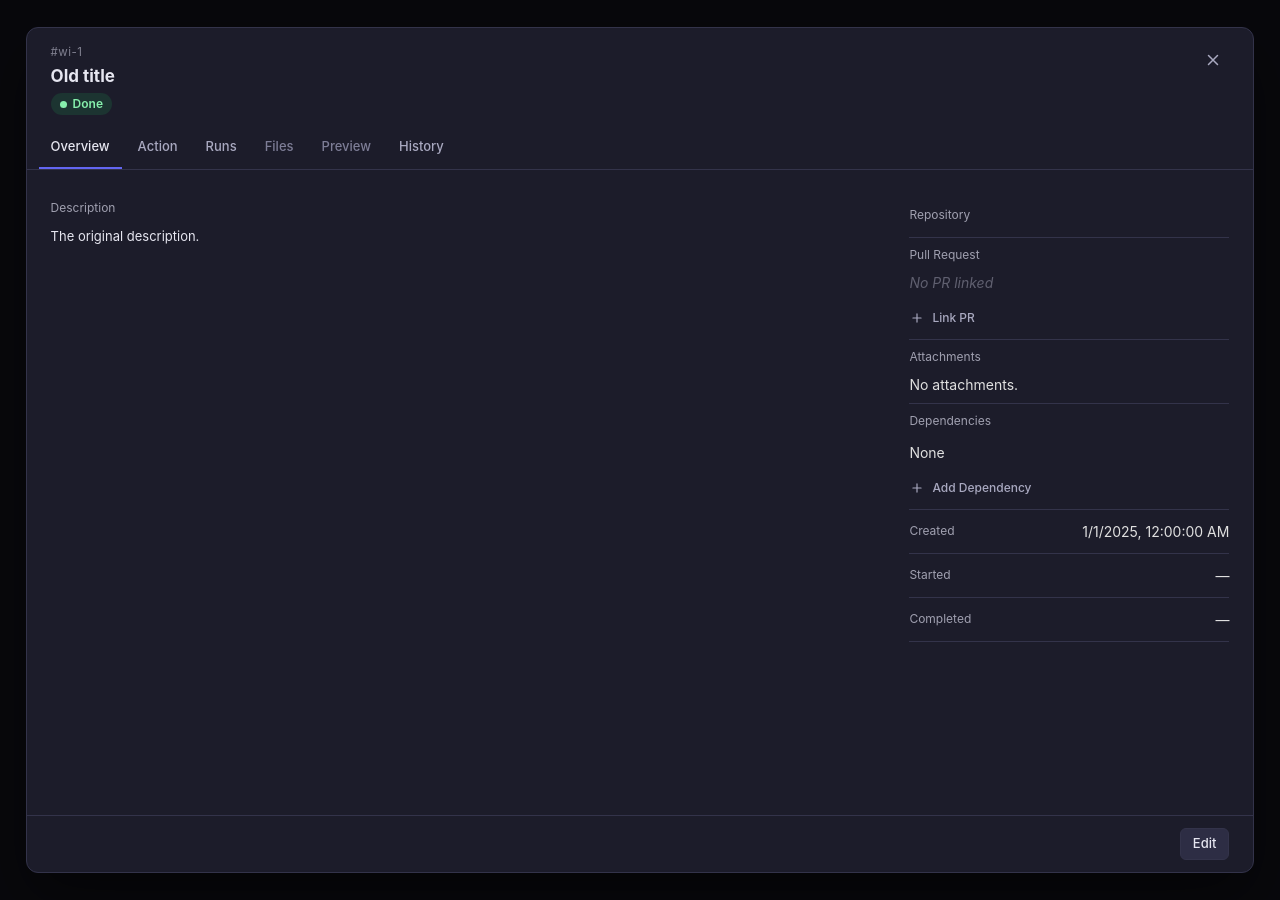
human input suggestions in the Action tab › approving re-reads the list, and the card then shows it decided with nothing left to press
Click the tab "Action" at (158, 148), box [126,127,190,169]
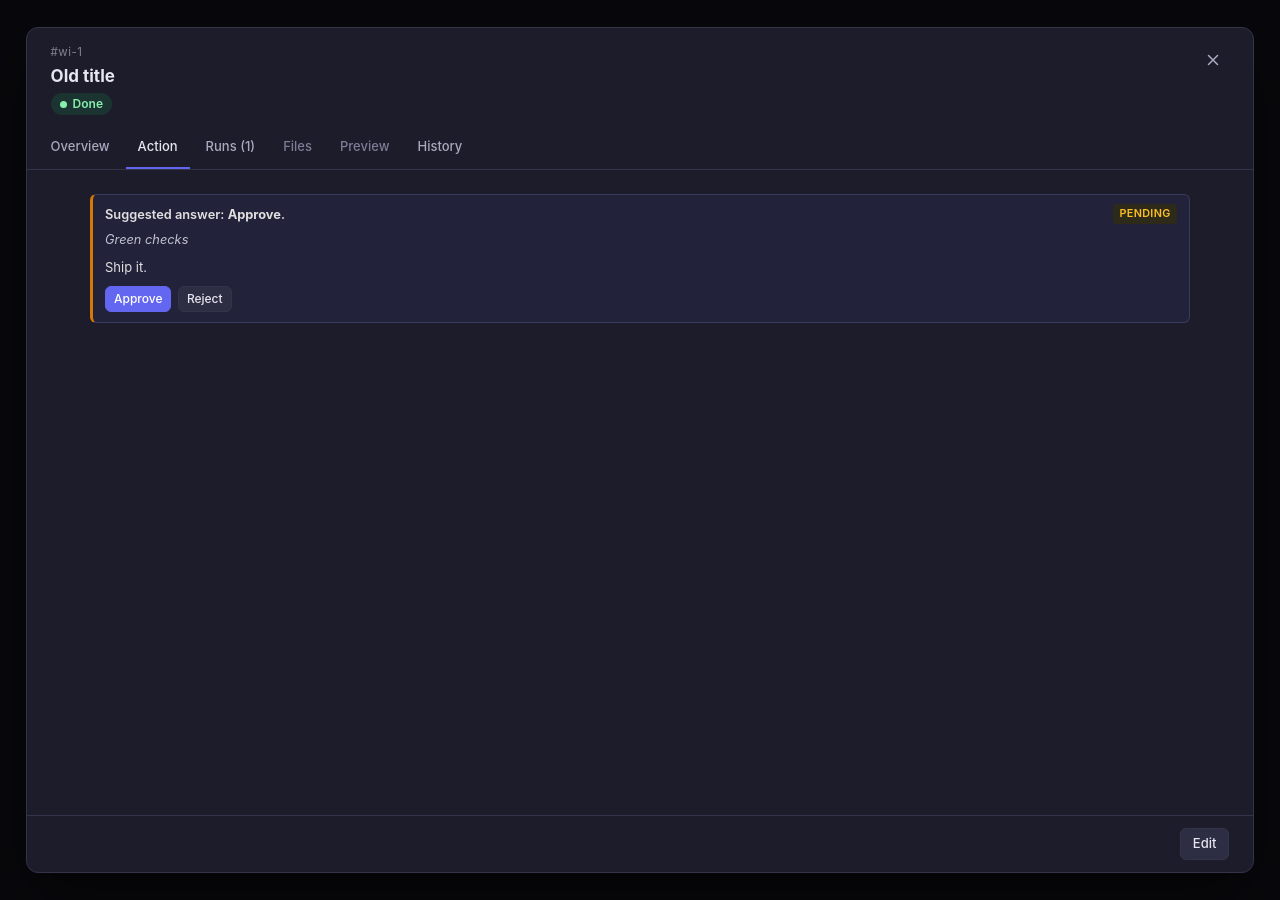
Expected: the panel with id "wiv2-panel-action" shows "Green checks", [105,232,188,247]
Click the button "Approve" at (138, 299), box [105,286,172,312]
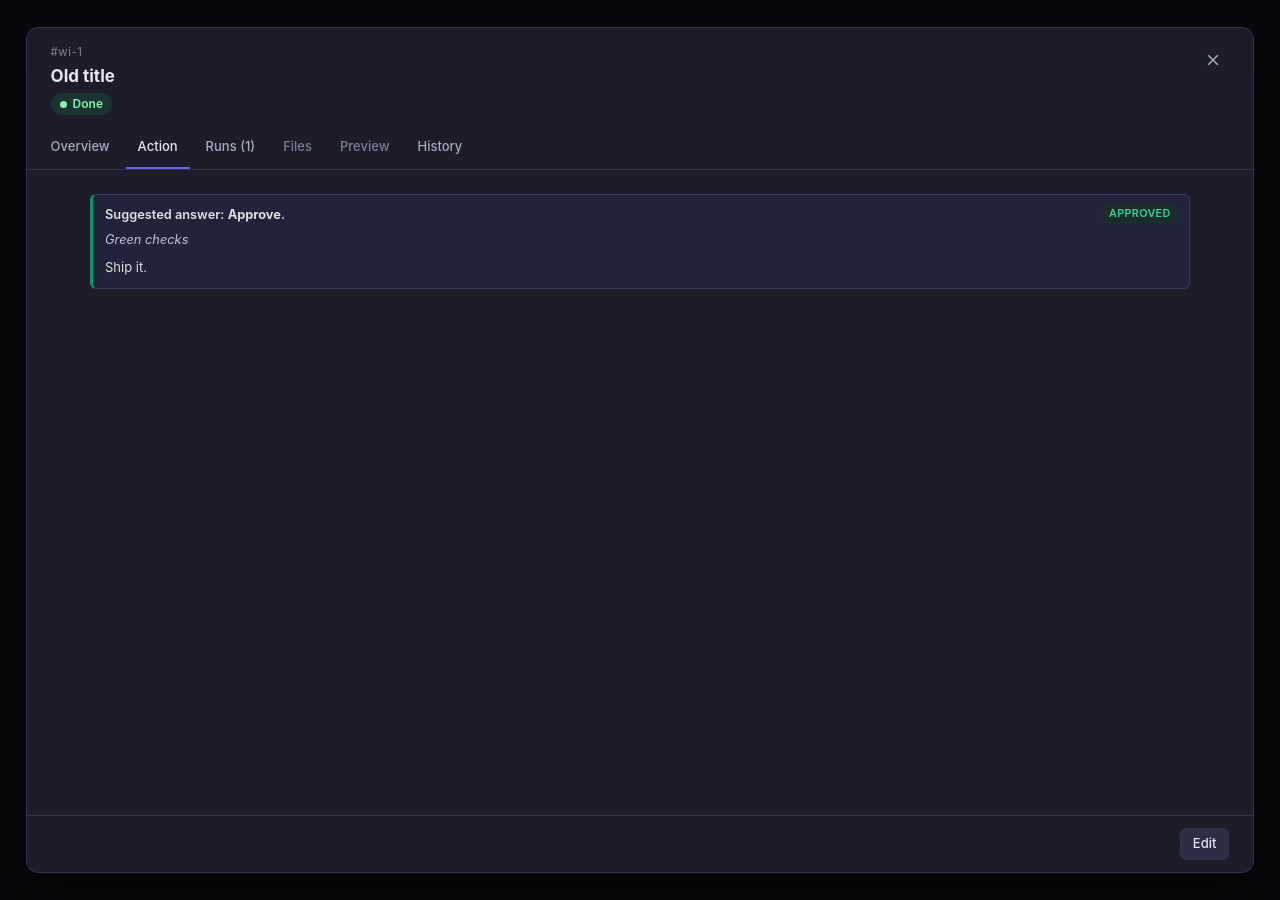
Expected: the text "Green checks" shows "Approved", [1109,207,1171,220]
Expected: the button "Reject" is gone
